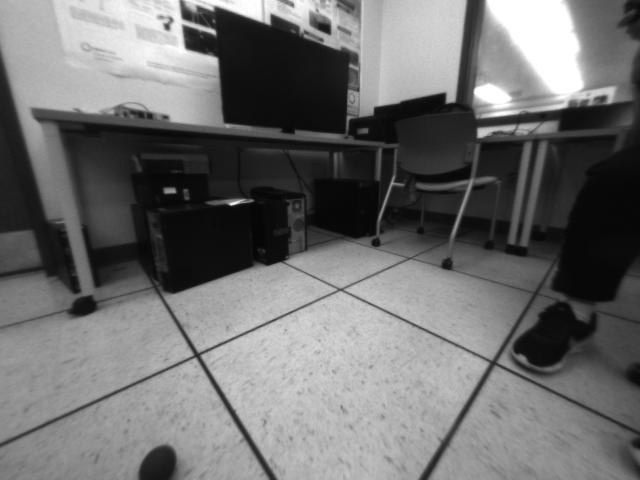dogtoy: (127, 433, 193, 480)
